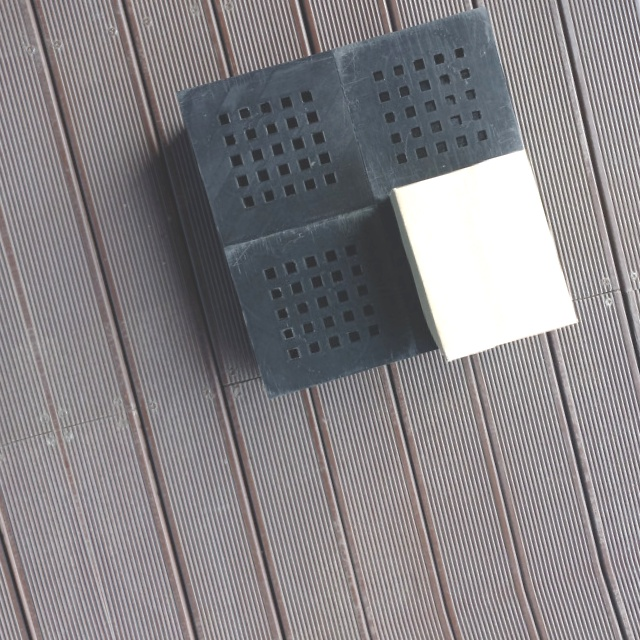box: (387, 152, 580, 367)
pallet: (161, 3, 573, 403)
